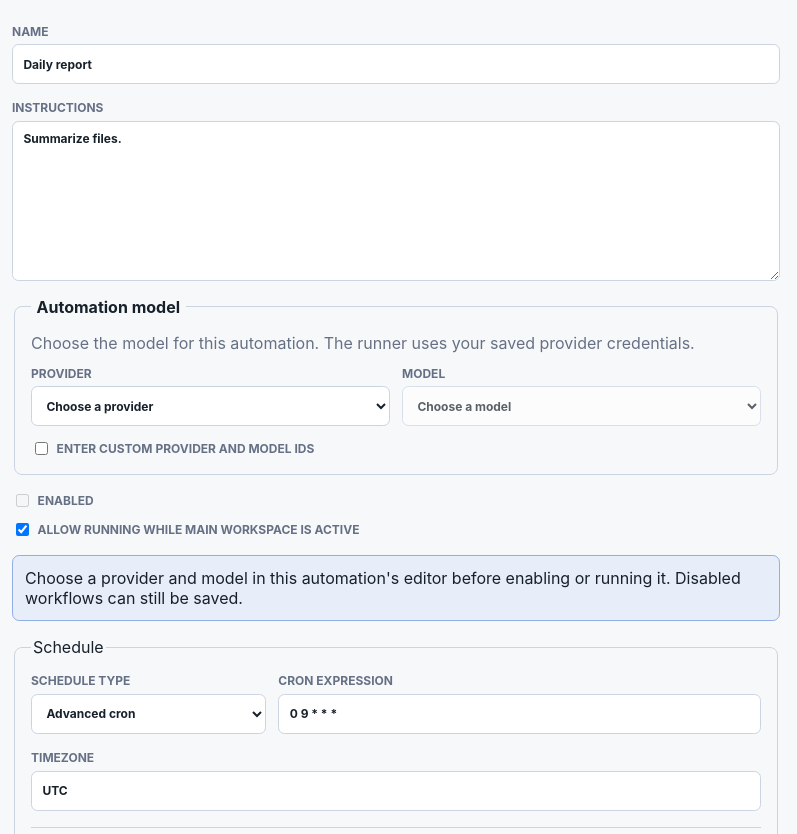
Test case: automation model selection › selects a provider and model, enables, and saves the exact pair
Expected: the checkbox labelled "Enabled" is disabled, [16,494,29,507]
Select "OpenAI" in the dropdown labelled "Provider" at (210,406), box [31,386,390,426]
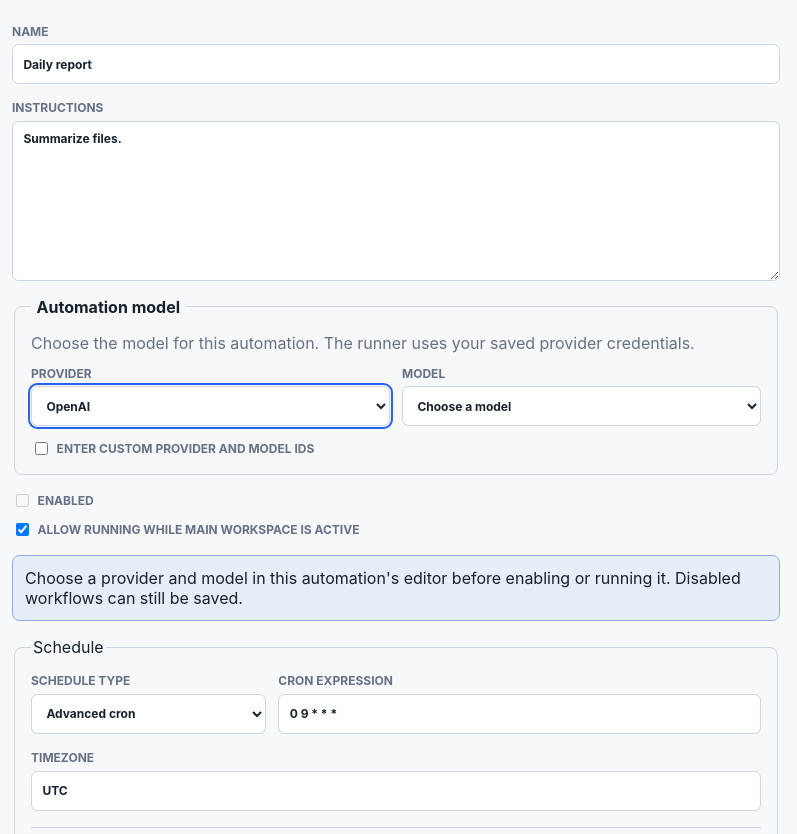
Expected: the checkbox labelled "Enabled" is disabled, [16,494,29,507]
Select "GPT-4.1 (gpt-4.1)" in the dropdown labelled "Model" at (582,406), box [402,386,761,426]
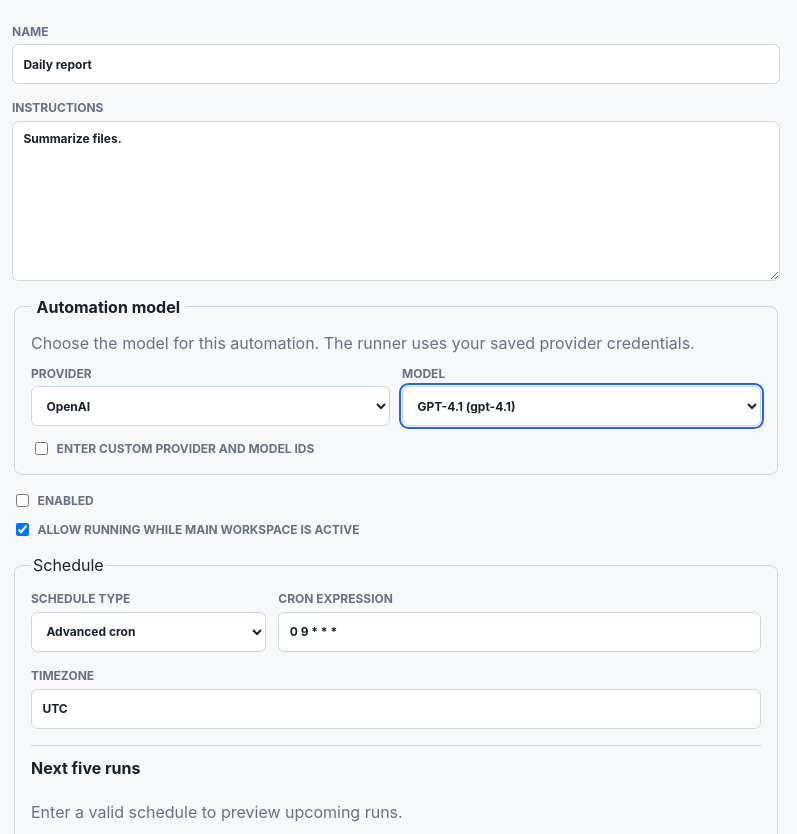
Click the checkbox labelled "Enabled".
click(22, 500)  # box [16,494,29,507]
(page scrolled)
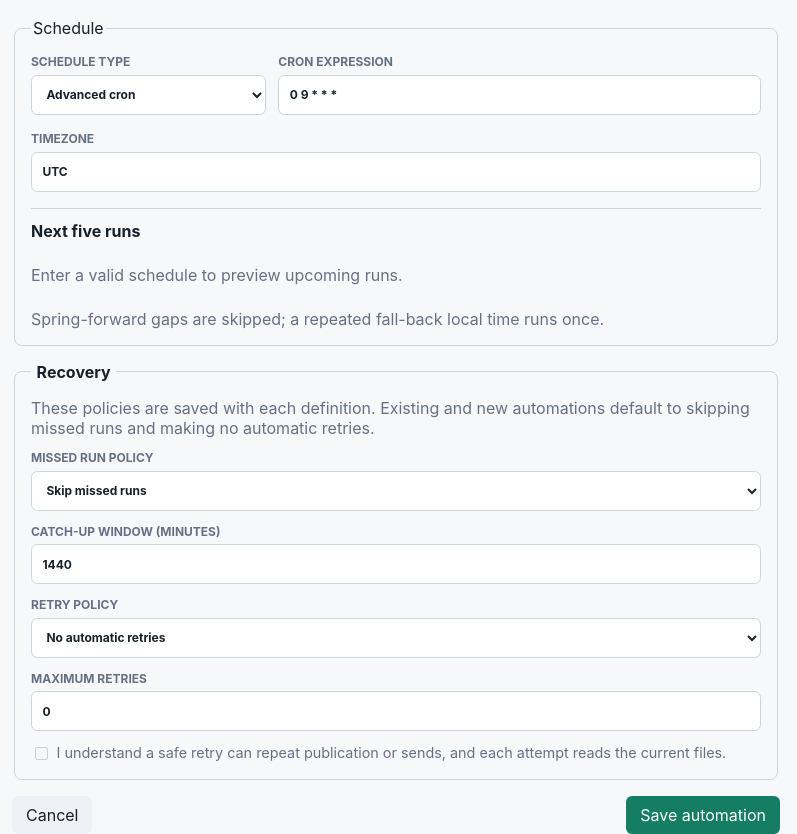
Click the button "Save automation".
click(703, 815)  # box [626,796,780,833]
(page scrolled)
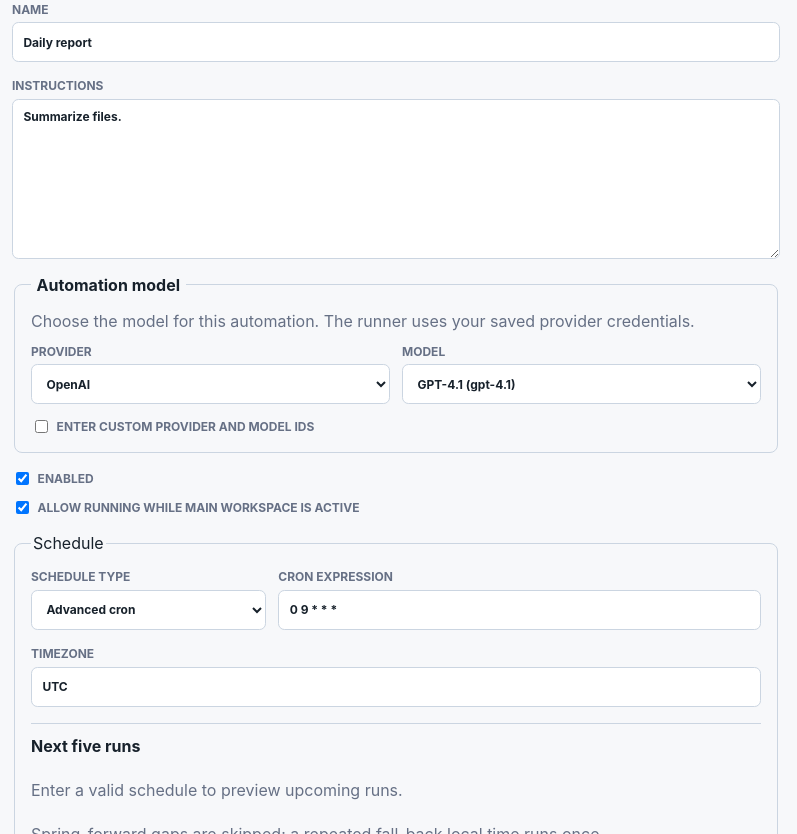
Select "Anthropic" in the dropdown labelled "Provider" at (210,384), box [31,364,390,404]
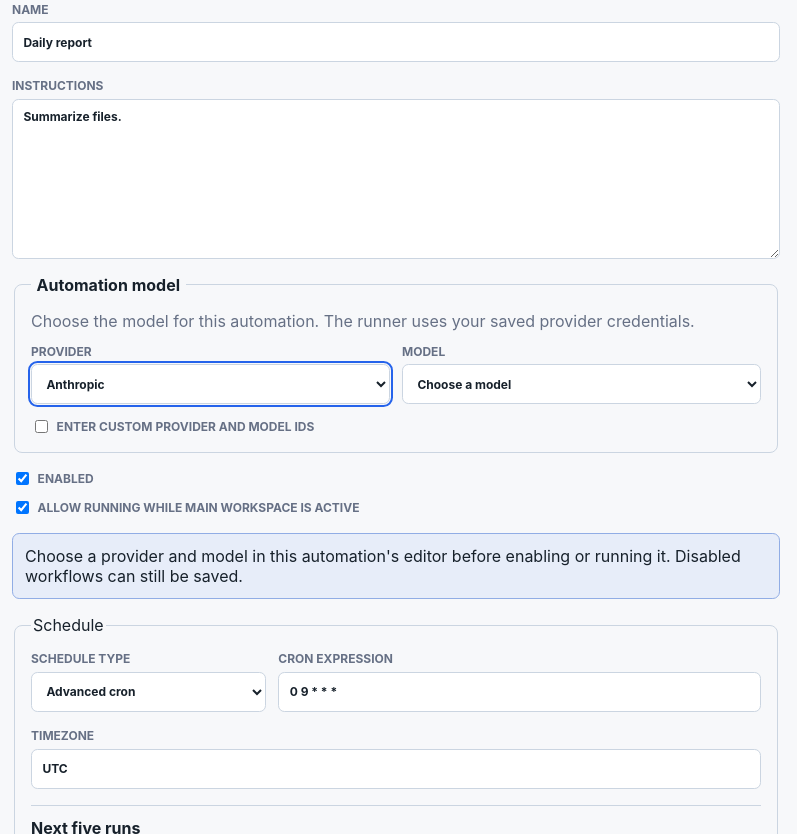
Disabling is always possible, including while changing an enabled definition's model.
Click the checkbox labelled "Enabled".
click(22, 478)  # box [16,472,29,485]
(page scrolled)
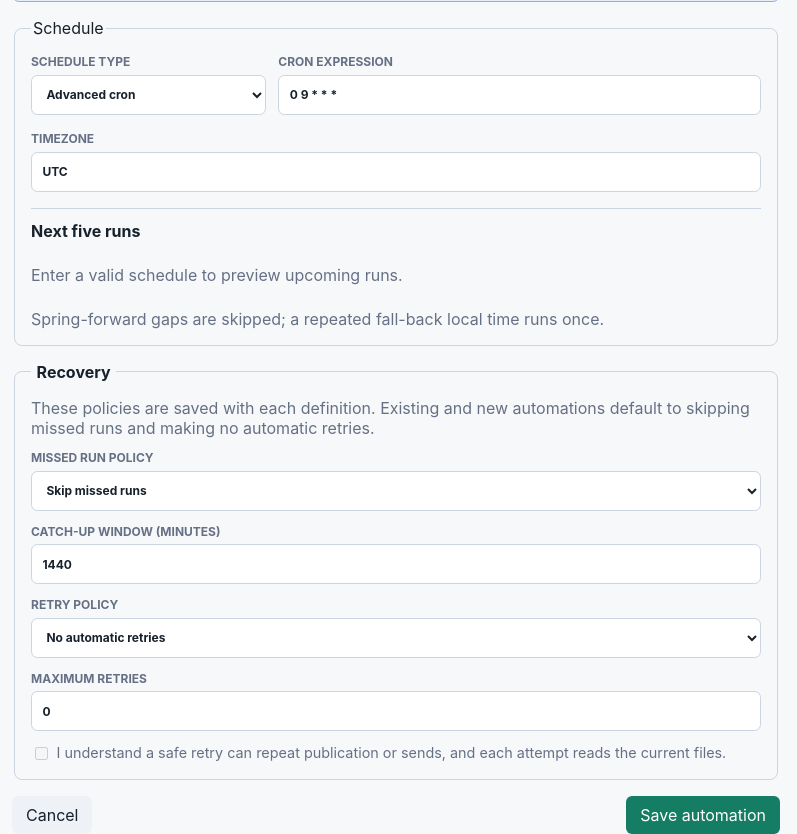
Result: the button "Save automation" is enabled at [626,796,780,833]
